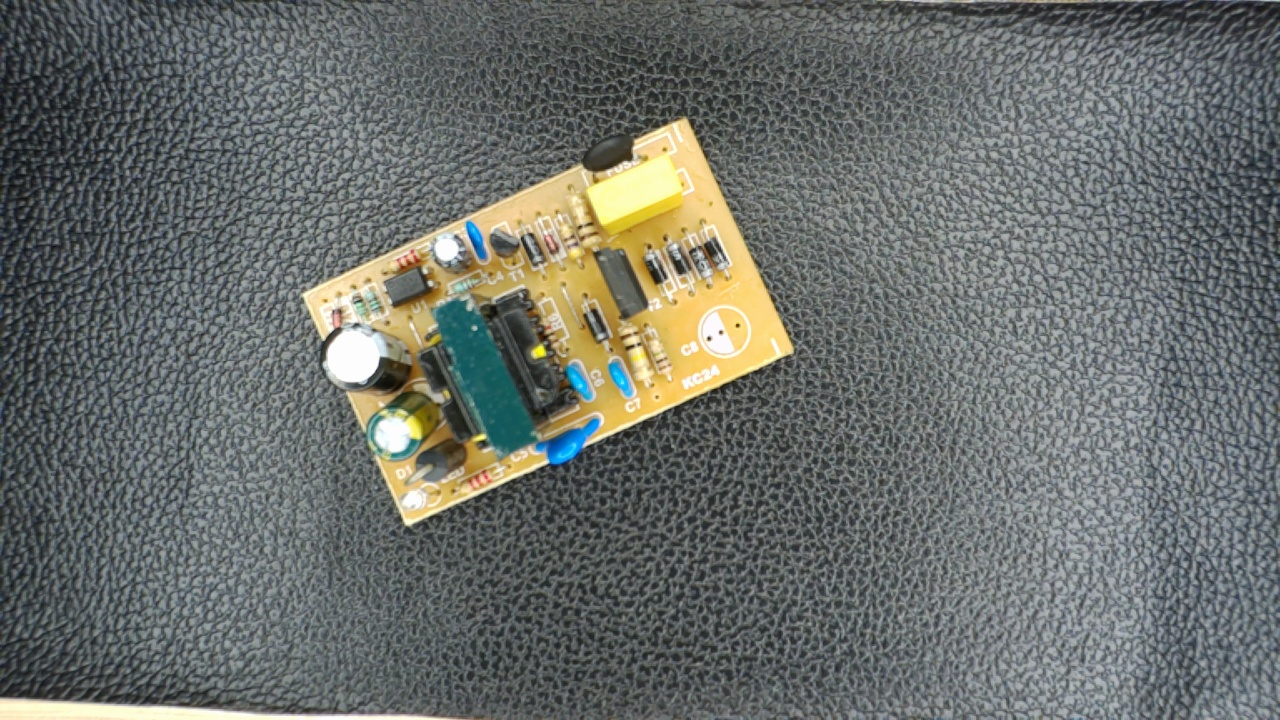fuse: (576, 134, 647, 186)
mov: (527, 413, 608, 467)
optocoupler: (374, 266, 441, 309)
